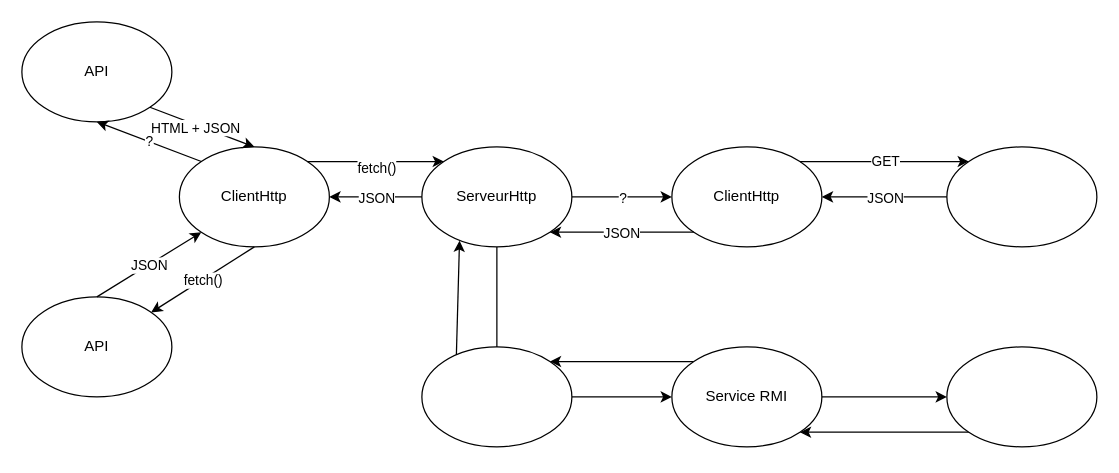
The diagram is 1119 pixels wide and 473 high, and some of its shapes have lost their labels. Each missing label, with the box of its shape:
API (données bloquées): (946, 146, 1097, 247)
Base de Donnée: (946, 346, 1097, 447)
Client RMI: (421, 346, 572, 447)
